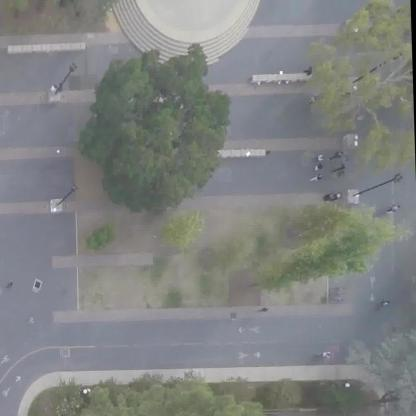Pedestrian: (311, 343, 334, 362), (4, 280, 18, 301), (374, 294, 392, 310), (334, 160, 348, 180), (307, 161, 327, 173), (47, 79, 60, 97), (257, 305, 269, 324), (385, 205, 401, 219), (312, 170, 324, 186), (302, 61, 314, 76), (331, 152, 348, 161), (312, 151, 325, 162)
